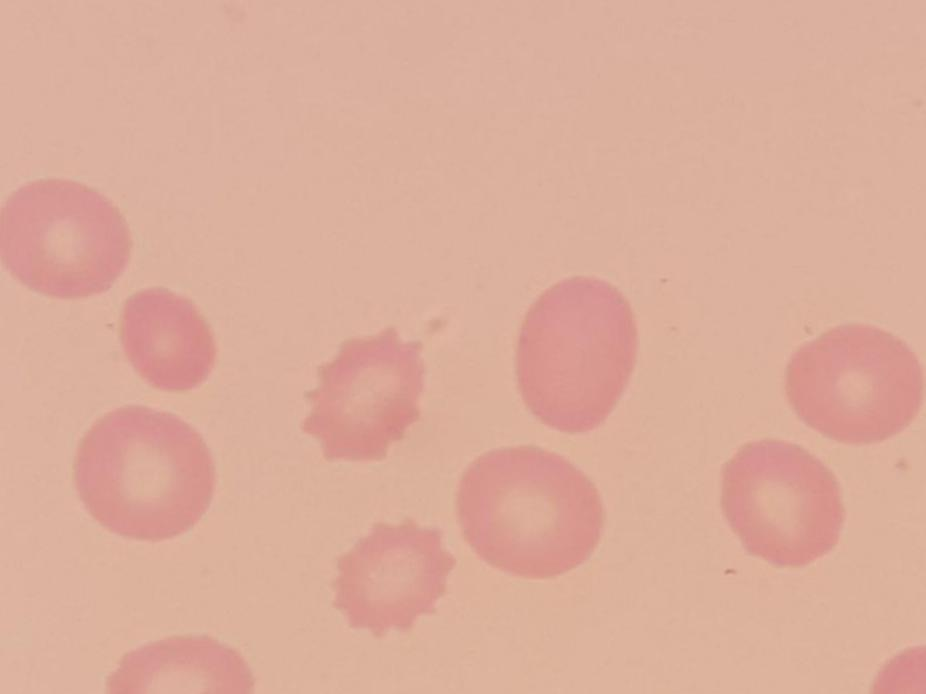Uninfected: (457, 446, 604, 584), (517, 276, 638, 437), (75, 404, 217, 540), (787, 322, 926, 446), (307, 326, 421, 466), (0, 181, 131, 302), (725, 436, 843, 569), (330, 516, 453, 640), (118, 292, 216, 395)
